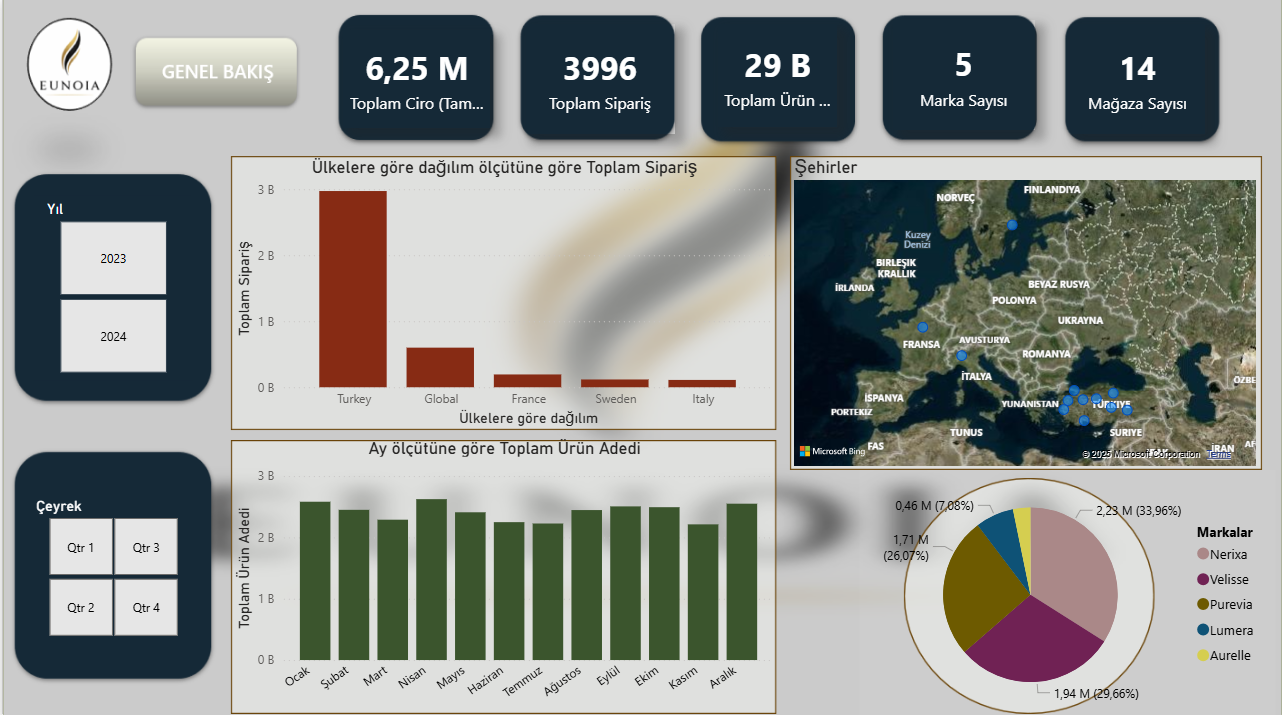

The dashboard page shown, as its layout file describes it:
{"tool":"powerbi","page":{"name":"Genel Bakış","canvas":[1280,720],"ordinal":0},"visuals":[{"type":"card","fields":{"Values":["public brand_targets.Toplam Ciro"]},"box":[341.2,30,147.5,97.5],"z":0},{"type":"card","fields":{"Values":["public brand_targets.Toplam Sipariş"]},"box":[523.8,23.8,148.8,110],"z":1000},{"type":"slicer","fields":{"Values":["public orders.order_date.Varyasyon.Tarih Hiyerarşisi.Yıl"]},"box":[31,195.2,158.3,185.7],"z":2000},{"type":"slicer","fields":{"Values":["public orders.order_date.Varyasyon.Tarih Hiyerarşisi.Çeyrek"]},"box":[21.4,492.9,178.6,150],"z":3000},{"type":"card","fields":{"Values":["public brand_targets.Toplam Ürün Adedi"]},"box":[716.7,23.8,119,103.6],"z":4000},{"type":"card","fields":{"Values":["public brand_targets.Mağaza Sayısı"]},"box":[1067.5,23.8,136.2,110],"z":5000},{"type":"card","fields":{"Values":["CountNonNull(public brands.brand_id)"]},"box":[891.2,20,141.2,110],"z":6000},{"type":"clusteredColumnChart","fields":{"Y":["public brand_targets.Toplam Sipariş"],"Category":["public stores.country"]},"box":[228.6,156,547.6,275],"z":7000},{"type":"map","title":"Şehirler","fields":{"Category":["public stores.city"]},"box":[788.1,156,471.4,314.3],"z":8000},{"type":"clusteredColumnChart","fields":{"Category":["public orders.order_date.Varyasyon.Tarih Hiyerarşisi.Ay"],"Y":["public brand_targets.Toplam Ürün Adedi"]},"box":[228.6,438.1,547.6,282.1],"z":9000},{"type":"pieChart","title":"Markalara Göre Toplam Sipariş","fields":{"Category":["public brands.brand_name"],"Y":["public brand_targets.Marka Geliri"]},"box":[857.5,470,416.2,250],"z":10000}]}

Visuals, with their boxes in screenshot pixels (x1, y1, x2, y2), scaled from the page's 1280x720 canvas onto the 1282x715 screenshot:
card - public brand_targets.Toplam Ciro: 342/30/489/127
card - public brand_targets.Toplam Sipariş: 525/24/674/133
slicer - public orders.order_date.Varyasyon.Tarih Hiyerarşisi.Yıl: 31/194/190/378
slicer - public orders.order_date.Varyasyon.Tarih Hiyerarşisi.Çeyrek: 21/489/200/638
card - public brand_targets.Toplam Ürün Adedi: 718/24/837/127
card - public brand_targets.Mağaza Sayısı: 1069/24/1206/133
card - CountNonNull(public brands.brand_id): 893/20/1034/129
clusteredColumnChart - public brand_targets.Toplam Sipariş x public stores.country: 229/155/777/428
"Şehirler" map: 789/155/1261/467
clusteredColumnChart - public orders.order_date.Varyasyon.Tarih Hiyerarşisi.Ay x public brand_targets.Toplam Ürün Adedi: 229/435/777/714
"Markalara Göre Toplam Sipariş" pieChart: 859/467/1276/714
